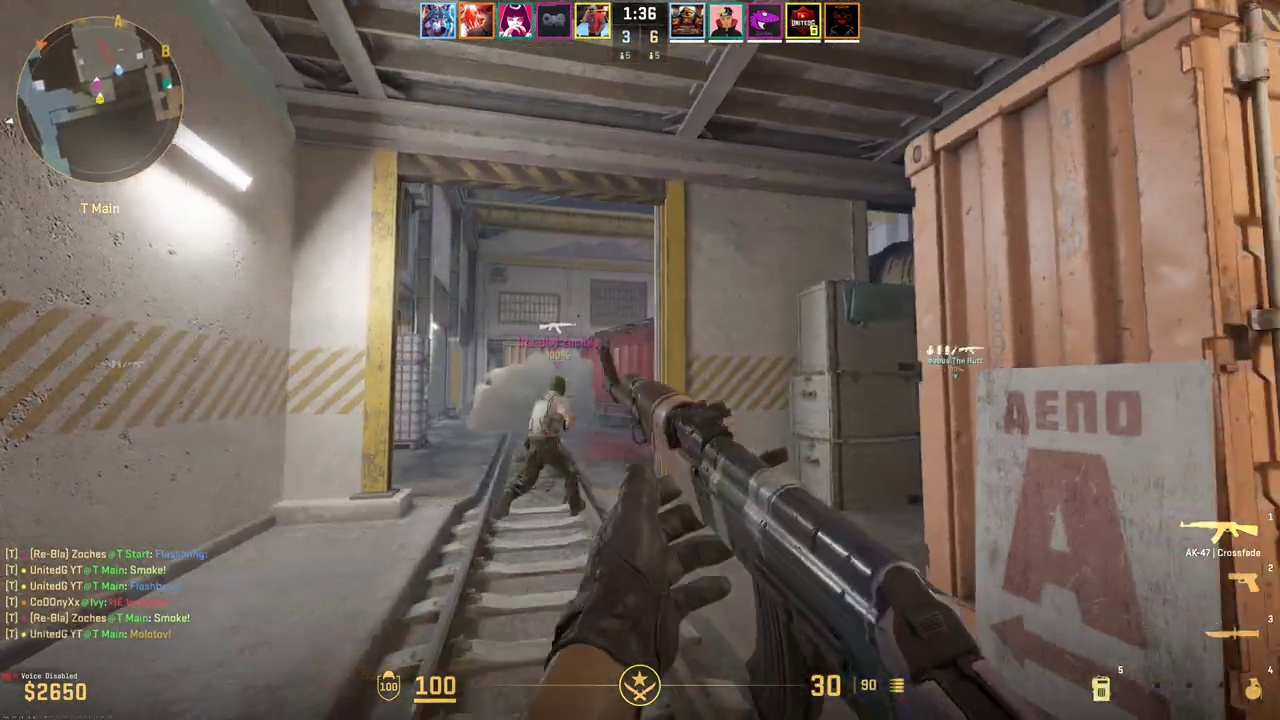Terrorist: (504, 375, 586, 519)
